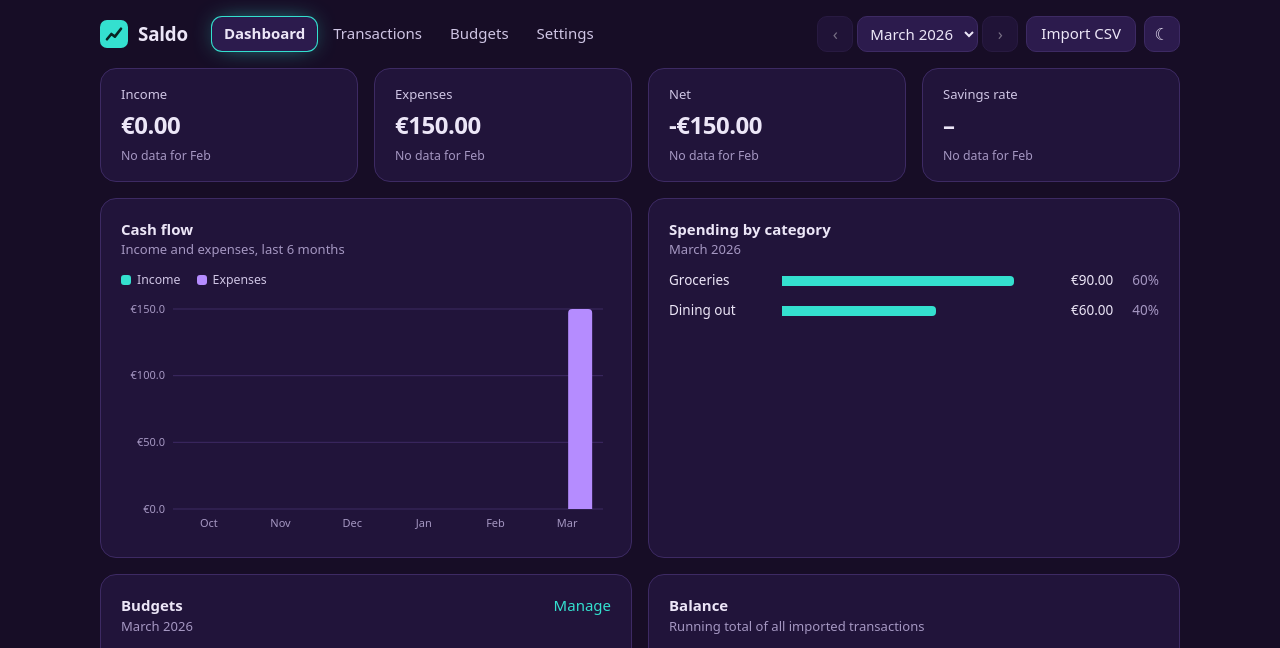
the dashboard links to the budgets view
The image size is (1280, 648).
What coordinates should you click on to do the following:
click the button "Manage"
I would click on:
 (582, 606)
Its box is top-left (554, 595), bottom-right (611, 617).
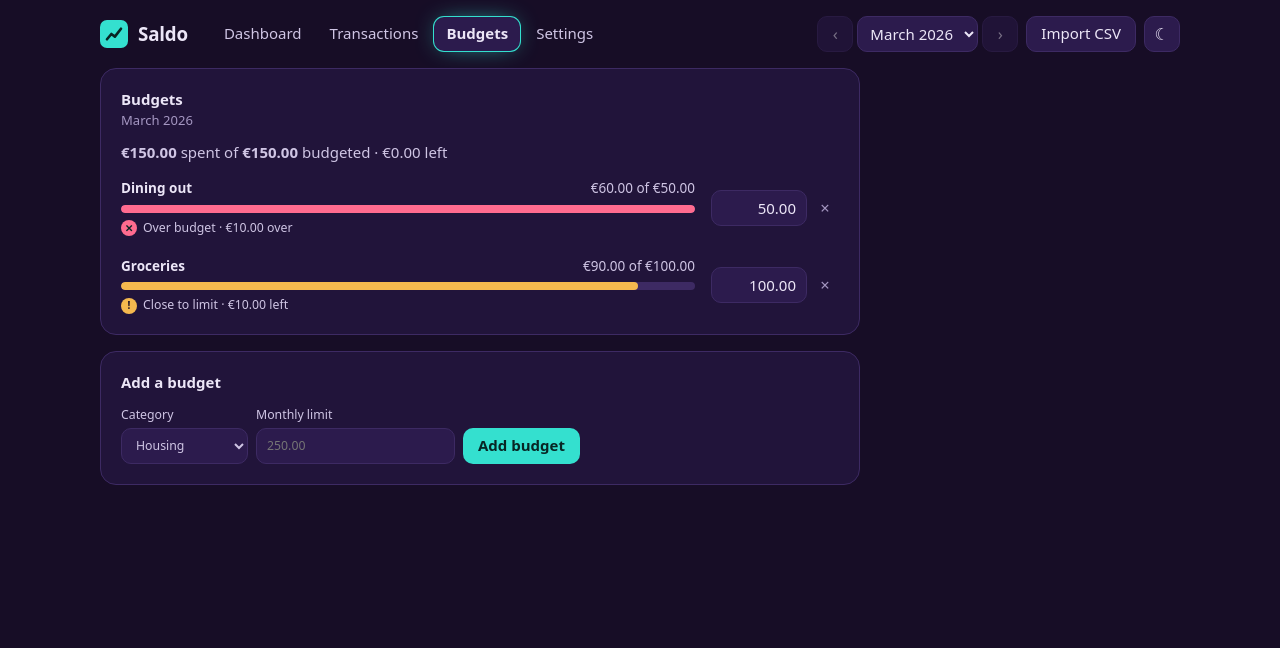
Result: the form "Add budget" is shown at top-left (100, 351), bottom-right (860, 485)
